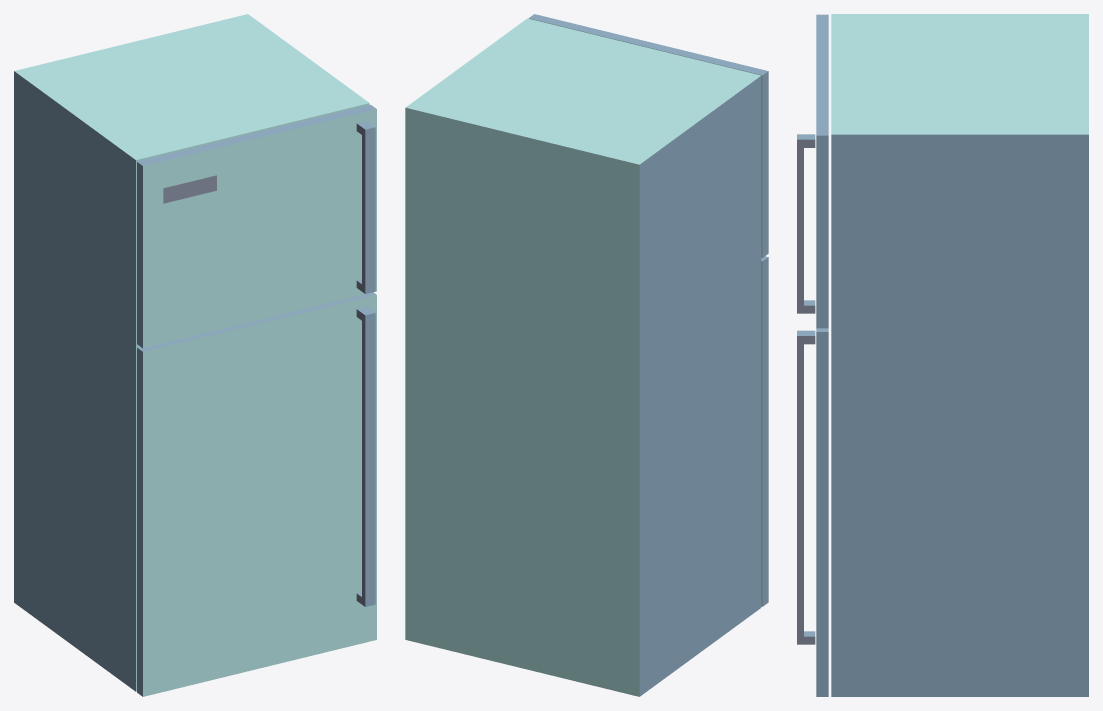
Rendered from Fridge.fbx.
The picture shows the model from 3 angles, left to right: view 1: azimuth 30°, elevation 25°; view 2: azimuth 150°, elevation 25°; view 3: azimuth 270°, elevation 25°; orthographic projection. The views are drawn at different scales.
Visible parts, largest first — view 1: Fridge; view 2: Fridge; view 3: Fridge.
Part boxes in pixels (box(x1,y1,x2,y2)): Fridge: box(14, 14, 376, 696); Fridge: box(405, 14, 768, 696); Fridge: box(797, 14, 1088, 696).
Size of the model in its own units: 200 by 434 by 204.
